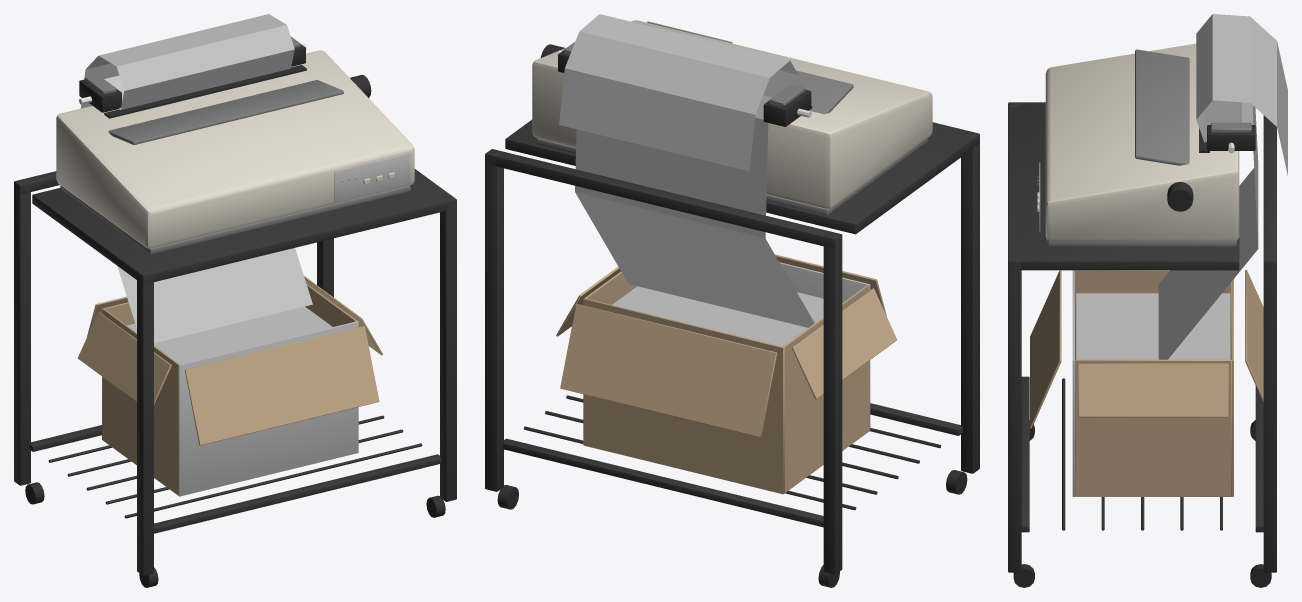
File: Kit_DotMatrixPrinter_OnStand.fbx
The picture shows the model from 3 angles, left to right: view 1: azimuth 30°, elevation 25°; view 2: azimuth 150°, elevation 25°; view 3: azimuth 270°, elevation 25°; orthographic projection. The views are drawn at different scales.
Visible parts, largest first — view 1: Kit_DotMatrixPrinter_OnStand_LOD0; view 2: Kit_DotMatrixPrinter_OnStand_LOD0; view 3: Kit_DotMatrixPrinter_OnStand_LOD0.
Boxes of the visible parts, x1=… form: Kit_DotMatrixPrinter_OnStand_LOD0: x1=14, y1=14, x2=456, y2=587; Kit_DotMatrixPrinter_OnStand_LOD0: x1=485, y1=14, x2=979, y2=587; Kit_DotMatrixPrinter_OnStand_LOD0: x1=1008, y1=14, x2=1287, y2=587.
Size of what is drawn, in the model's own units: 0.7 by 0.935 by 0.52.
